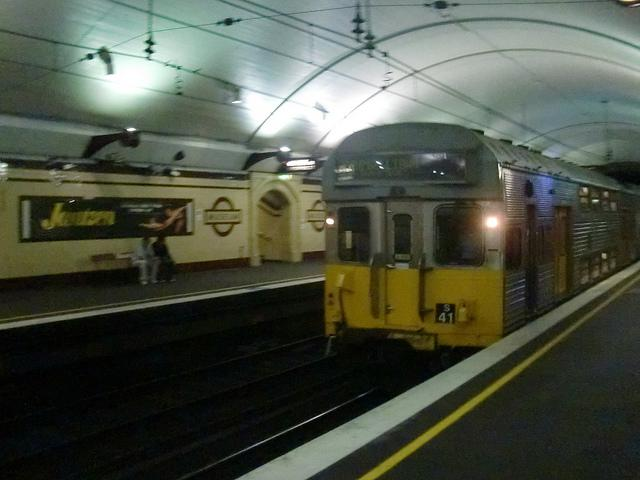Train: (318, 120, 638, 356)
